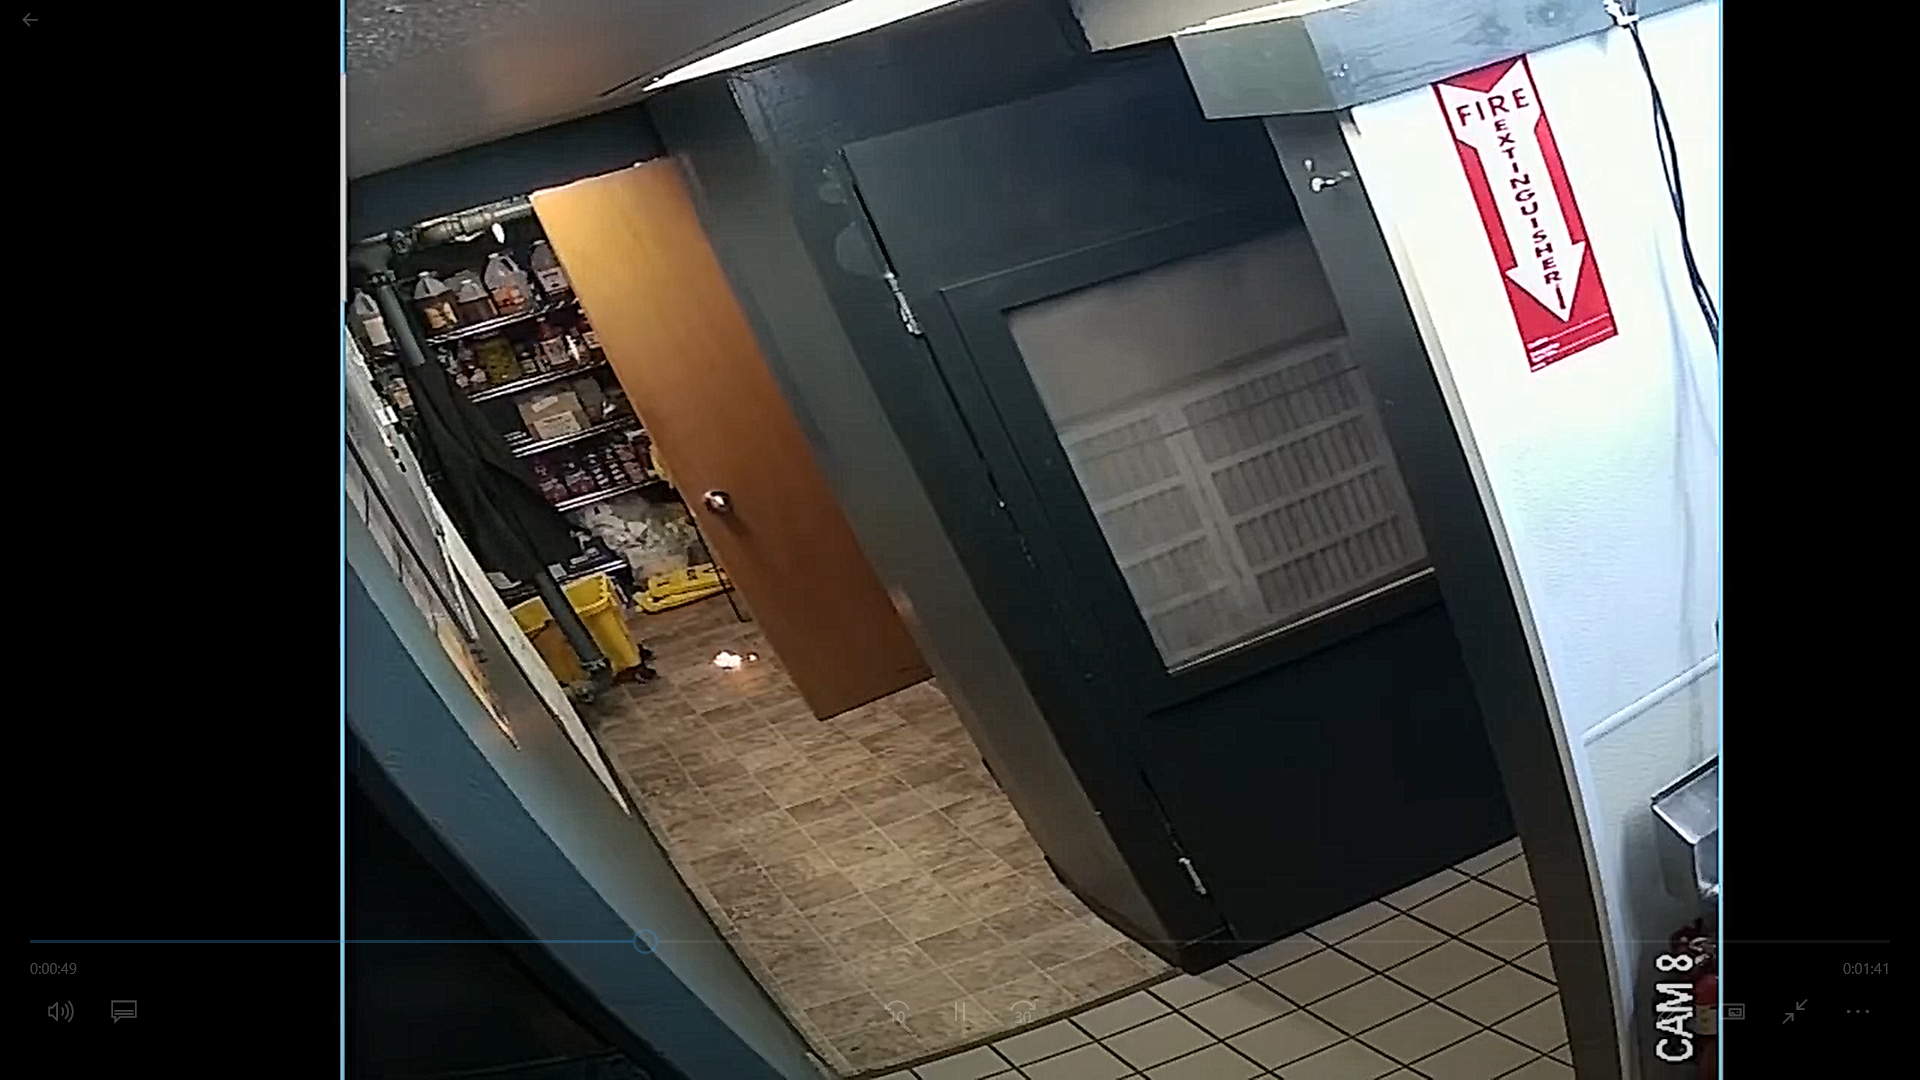fire: (702, 647, 773, 676)
